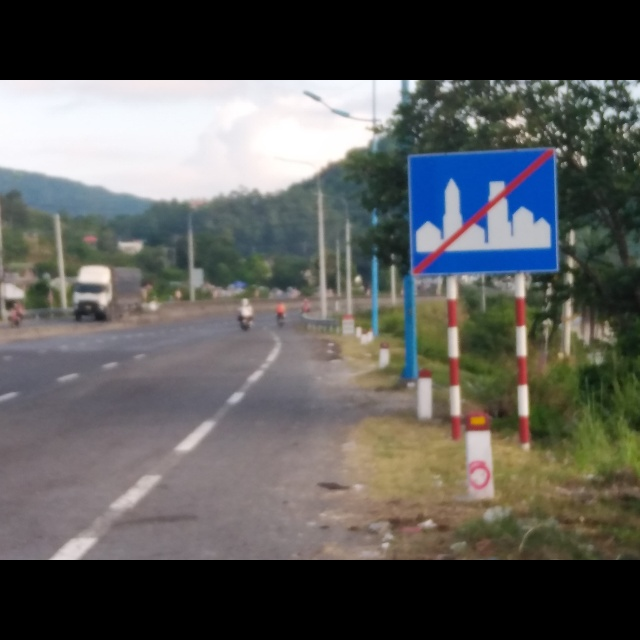Hết khu đông dân cư: (407, 147, 561, 278)
